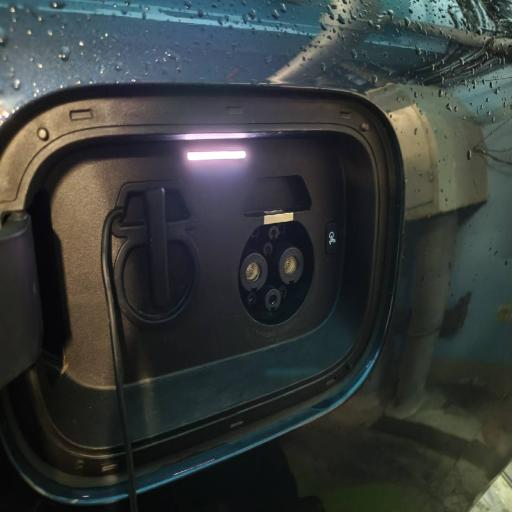DC_hole: (239, 252, 269, 294), (277, 246, 306, 286)
PE: (264, 288, 281, 315)
charging_port: (235, 218, 317, 330)
